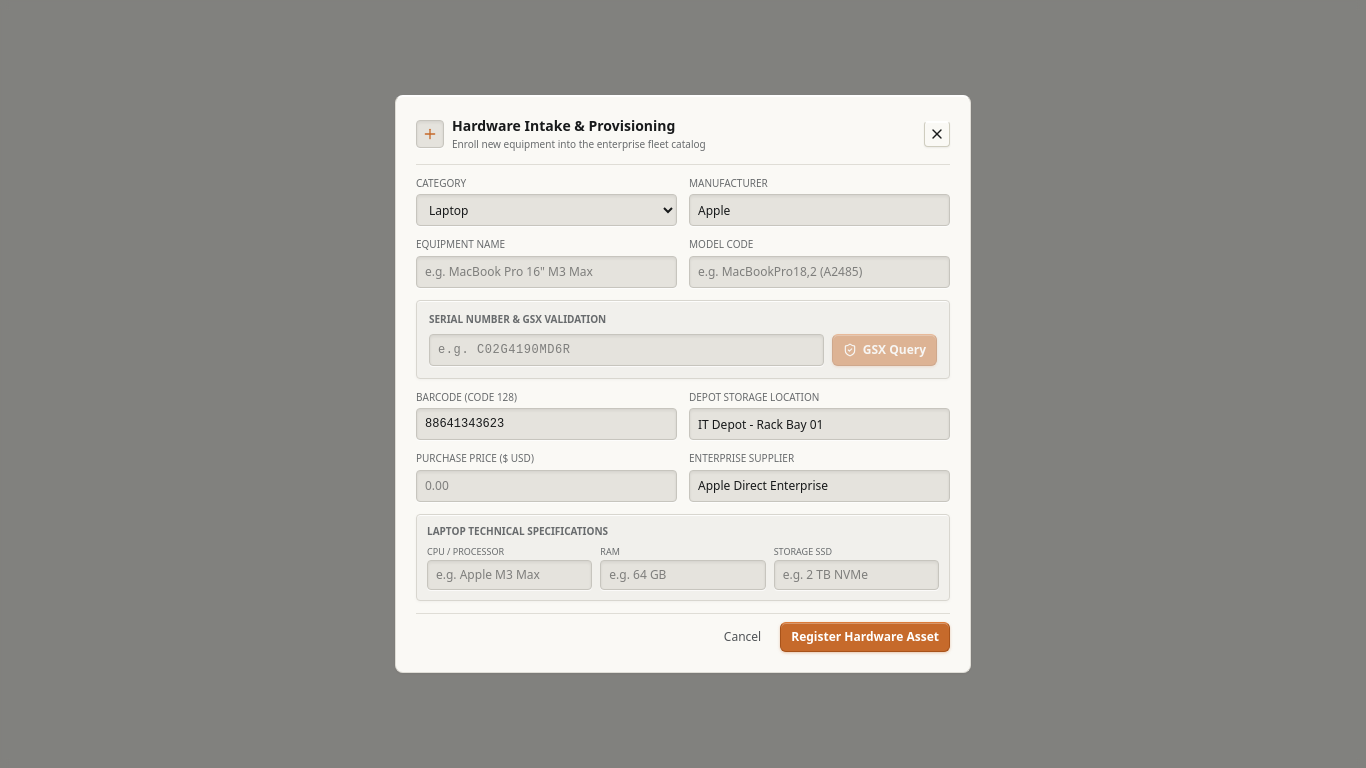
it: AddAssetModal Intake Lifecycle › switches specification inputs dynamically based on selected Category
Expected: the field labelled "CPU / Processor" is shown, [427,560,592,590]
Note: Switch category to Display
Select "Display" in the dropdown labelled "Category" at (546, 210), box [416,194,677,226]
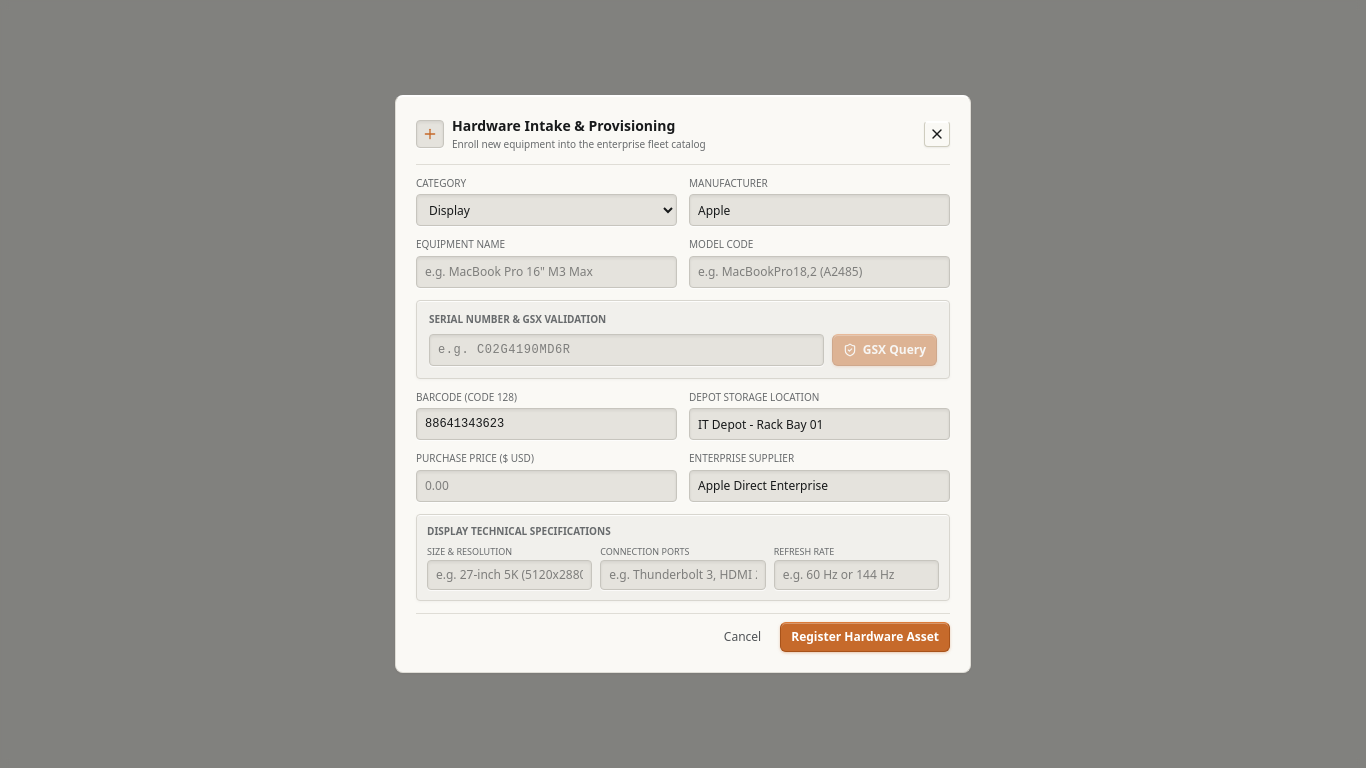
Expected: the label labelled "CPU / Processor" is gone
Expected: the field labelled "Size & Resolution" is shown, [427,560,592,590]
Expected: the field labelled "Connection Ports" is shown, [600,560,766,590]
Note: Switch category to Dock
Select "Dock" in the dropdown labelled "Category" at (546, 210), box [416,194,677,226]
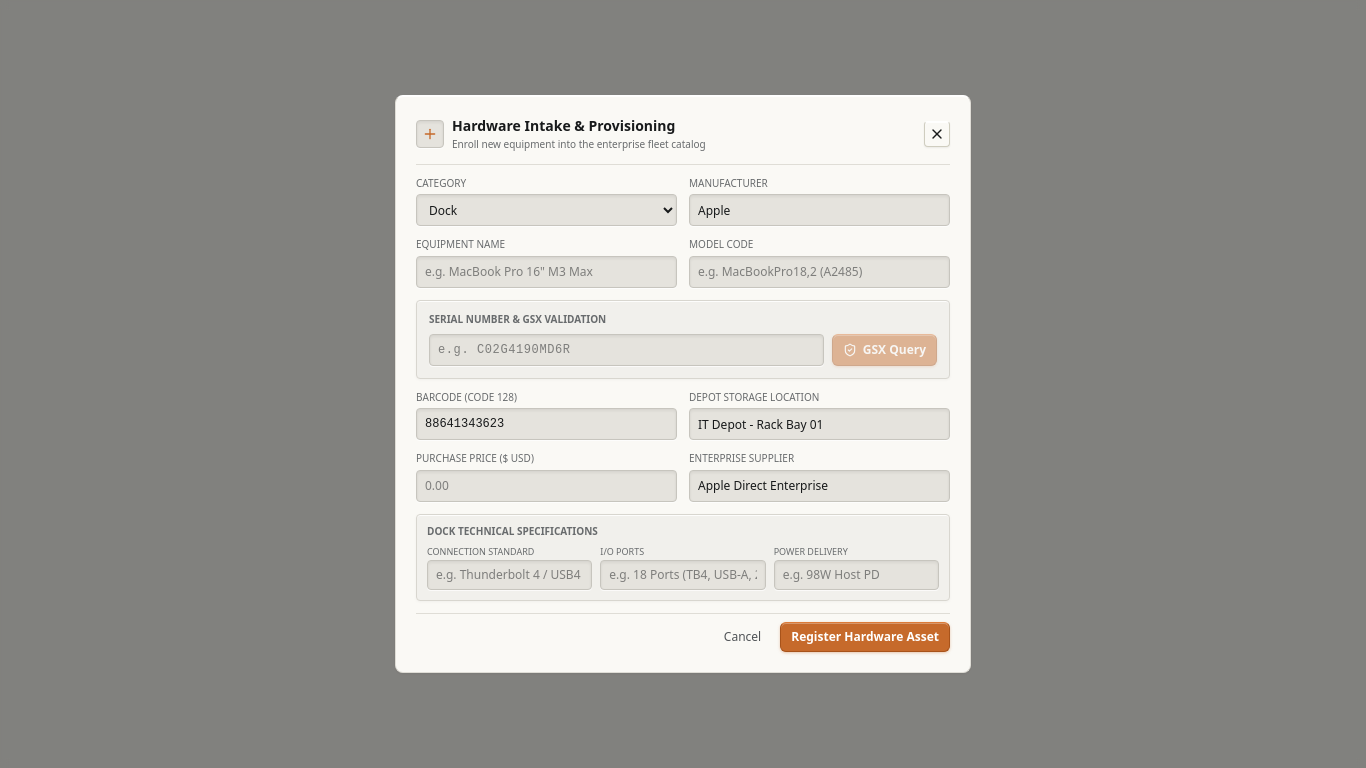
Expected: the field labelled "Connection Standard" is shown, [427,560,592,590]
Expected: the field labelled "I/O Ports" is shown, [600,560,766,590]
Note: Switch category to Keyboard
Select "Keyboard" in the dropdown labelled "Category" at (546, 210), box [416,194,677,226]
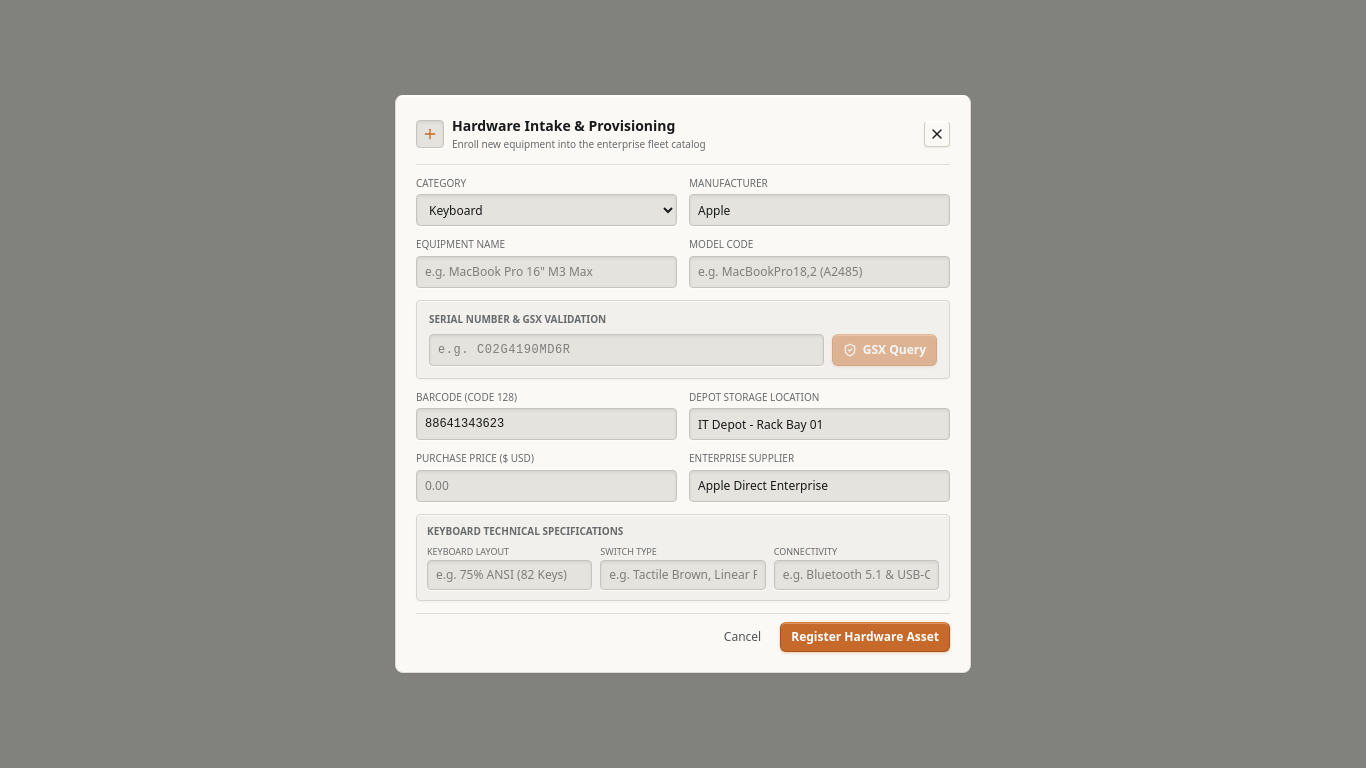
Expected: the field labelled "Keyboard Layout" is shown, [427,560,592,590]
Expected: the field labelled "Switch Type" is shown, [600,560,766,590]
